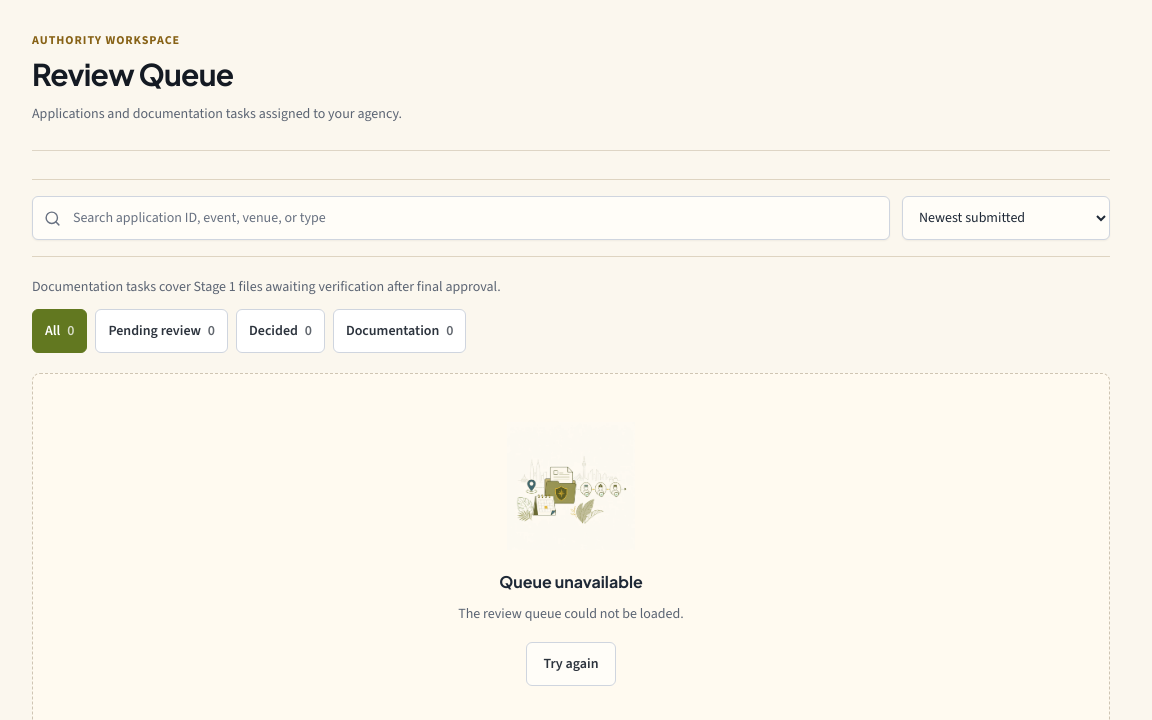
Test: ReviewQueue › shows a retryable queue error and recovers
Expected: the heading "Queue unavailable" is shown, [499,570,643,592]
What coordinates should you click on to do the following:
click the button "Try again"
I would click on:
 (571, 664)
Its box is [526,642,616,686].
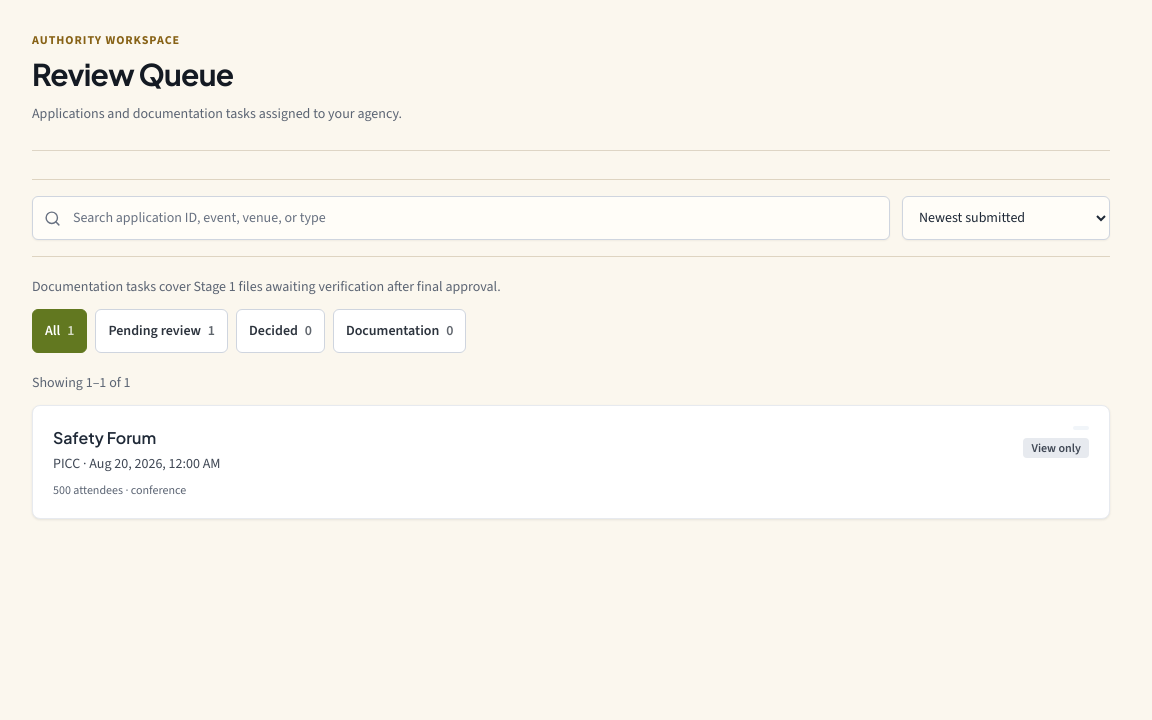
Now the heading "Safety Forum" is shown, box [53,426,156,448]
